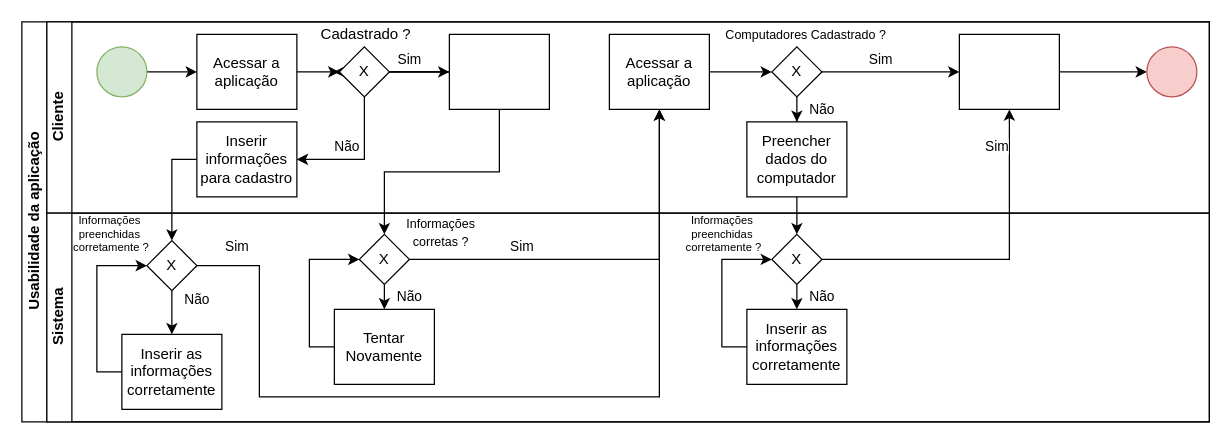
Some shapes in this 1231 by 444 pixel diagram are drawn without their labels. The centre of each missing label's shape, as x and y in pixels:
"Realizar Login" belongs at point (498, 71).
"Ver Dashboard" belongs at point (1008, 71).
